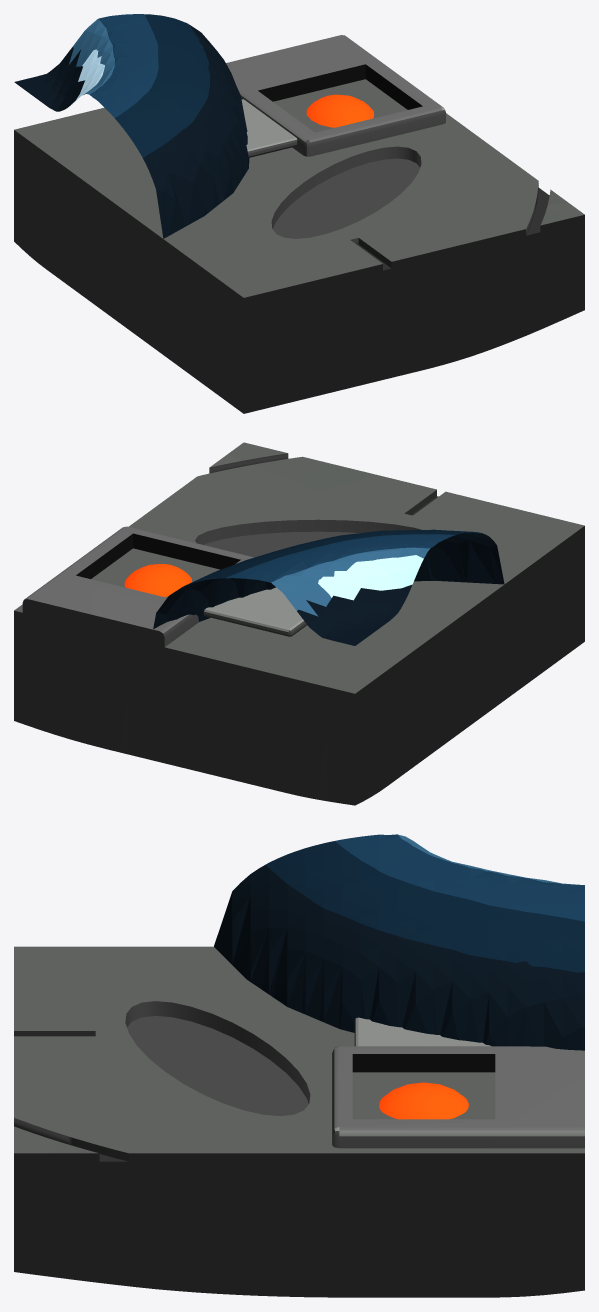
File: camanis_boss_275.glb
3 renders of one model, top to bottom at view 1: azimuth 30°, elevation 25°; view 2: azimuth 150°, elevation 25°; view 3: azimuth 270°, elevation 25°, orthographic. The views are drawn at different scales.
Parts seen in each view (by area): view 1: camanis_boss_275; view 2: camanis_boss_275; view 3: camanis_boss_275.
Part boxes in pixels (<box>): camanis_boss_275: <box>14,14,584,413</box>; camanis_boss_275: <box>14,442,584,805</box>; camanis_boss_275: <box>14,834,584,1297</box>.
Size of the model in its own units: 24 by 13.91 by 28.
